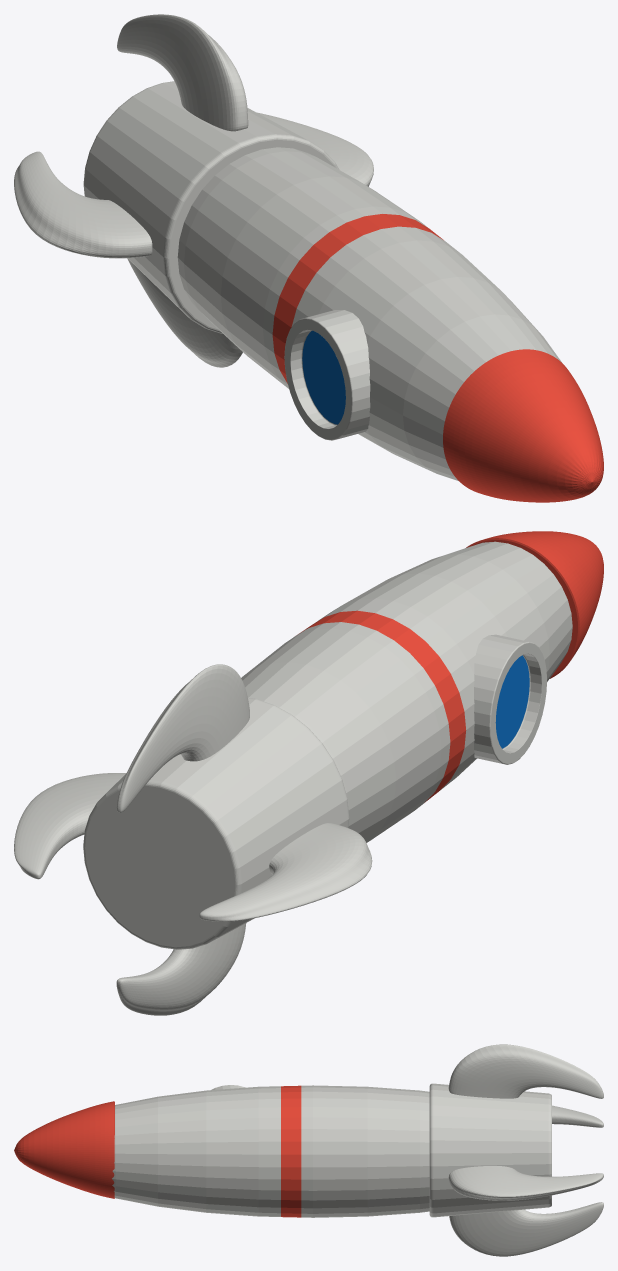
The model's file is rocket_model.glb.
The picture shows the model from 3 angles, top to bottom: view 1: azimuth 30°, elevation 25°; view 2: azimuth 150°, elevation 25°; view 3: azimuth 270°, elevation 25°; orthographic projection. The views are drawn at different scales.
Parts seen in each view (by area): view 1: imagetostl_mesh9; view 2: imagetostl_mesh9; view 3: imagetostl_mesh9.
Boxes of the visible parts, <box> form: imagetostl_mesh9: <box>14,14,603,502</box>; imagetostl_mesh9: <box>14,531,603,1015</box>; imagetostl_mesh9: <box>14,1044,603,1256</box>.
Size of the model in its own units: 1.95 by 1.95 by 4.97.
